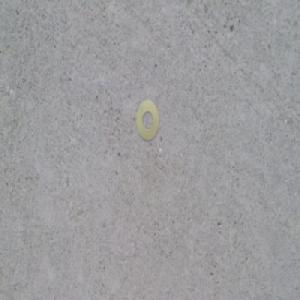Washer: (136, 97, 160, 142)
